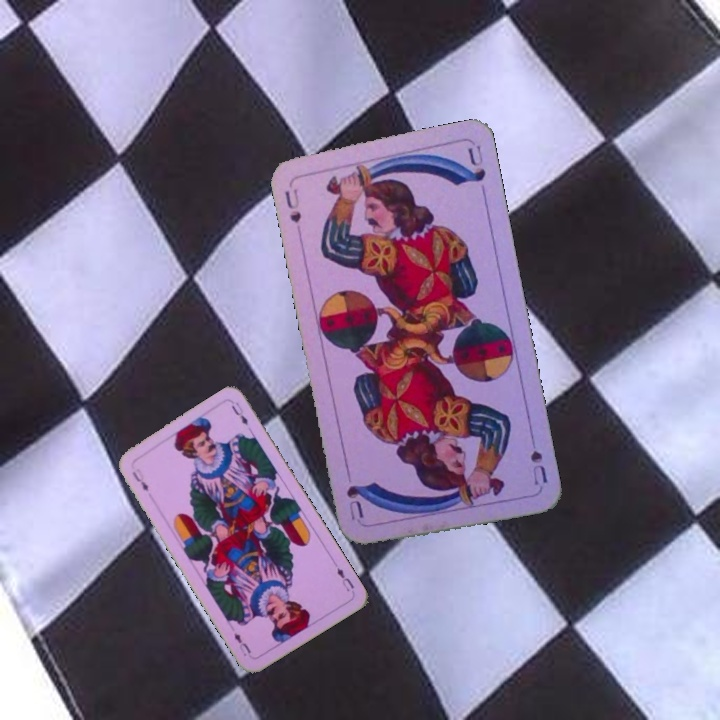EU: (332, 563, 357, 594), (128, 464, 151, 494)
SU: (525, 428, 550, 488), (281, 179, 304, 226)
